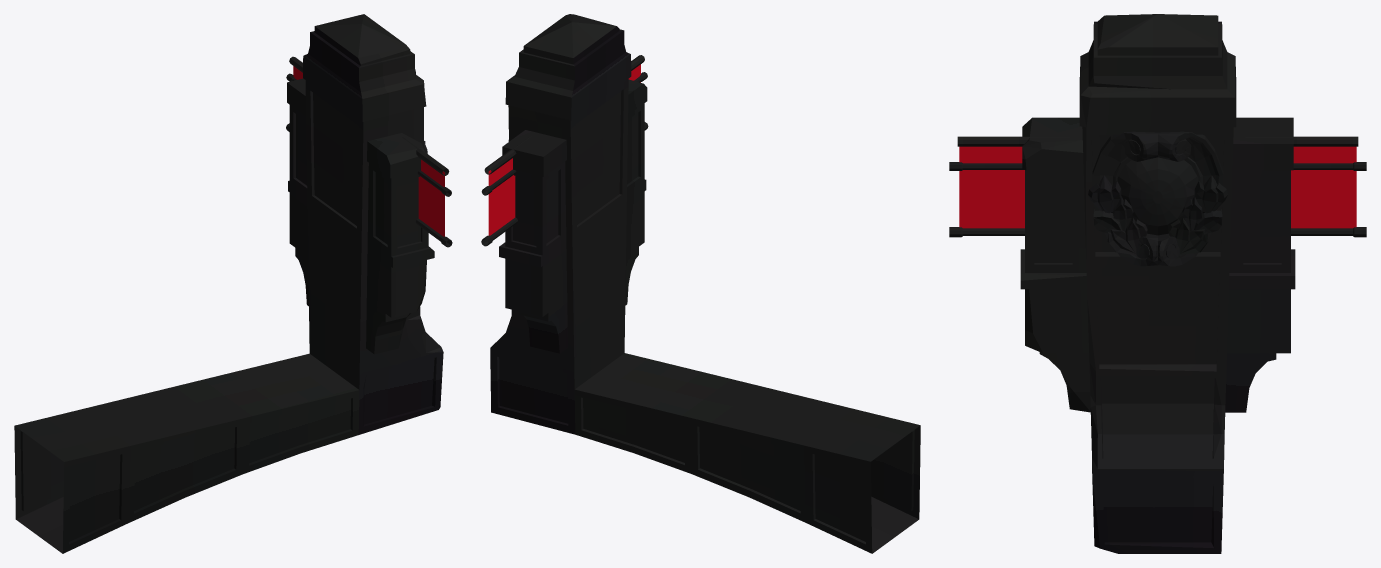
Rendered from BridgeDeco.fbx.
3 views of the same model, side by side, from view 1: azimuth 30°, elevation 25°; view 2: azimuth 150°, elevation 25°; view 3: azimuth 270°, elevation 25° (orthographic). The views are drawn at different scales.
Visible parts, largest first — view 1: SM_City_Bridge_Deco_01.mo; view 2: SM_City_Bridge_Deco_01.mo; view 3: SM_City_Bridge_Deco_01.mo.
Boxes of the visible parts, x1,y1,x2,y2 form: SM_City_Bridge_Deco_01.mo: (14, 14, 452, 553); SM_City_Bridge_Deco_01.mo: (481, 14, 920, 553); SM_City_Bridge_Deco_01.mo: (949, 14, 1366, 553).
Bounding box in the file's own units: 440 × 481 × 320.
